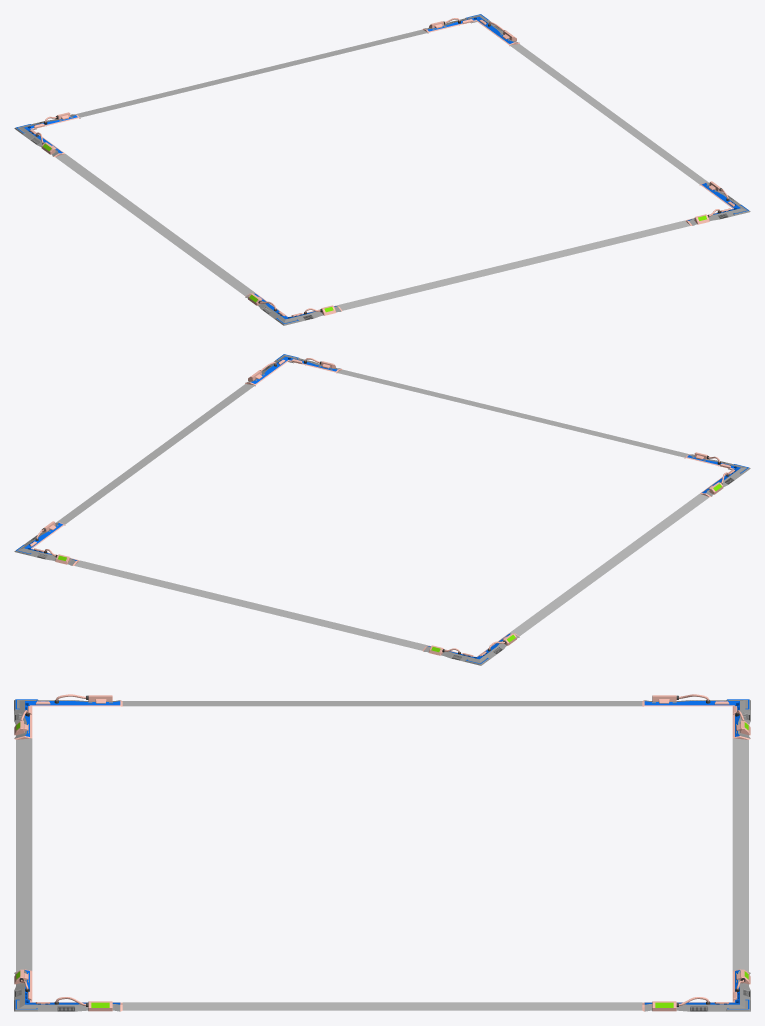
Rendered from 160_NFT_Display_-_16x16.fbx.
3 views of the same model, one above another, from view 1: azimuth 30°, elevation 25°; view 2: azimuth 150°, elevation 25°; view 3: azimuth 270°, elevation 25° (orthographic). The views are drawn at different scales.
Parts seen in each view (by area): view 1: NFT_basic_8x8; view 2: NFT_basic_8x8; view 3: NFT_basic_8x8.
Boxes of the visible parts, <box> form: NFT_basic_8x8: <box>14,14,750,325</box>; NFT_basic_8x8: <box>14,354,750,665</box>; NFT_basic_8x8: <box>14,694,750,1011</box>.
Size of the model in its own units: 1600 by 24.25 by 1600.
